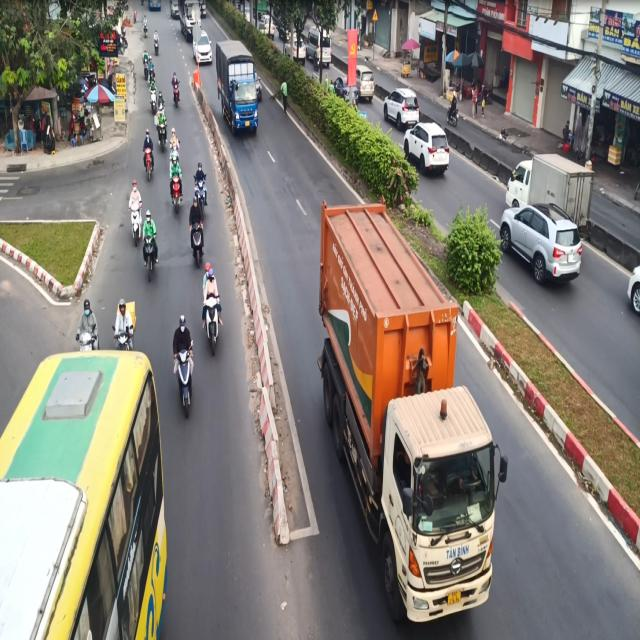motor: (167, 307, 200, 412), (199, 264, 224, 354), (141, 207, 162, 282), (128, 173, 142, 249)
truck: (313, 194, 496, 637), (214, 33, 263, 143)
